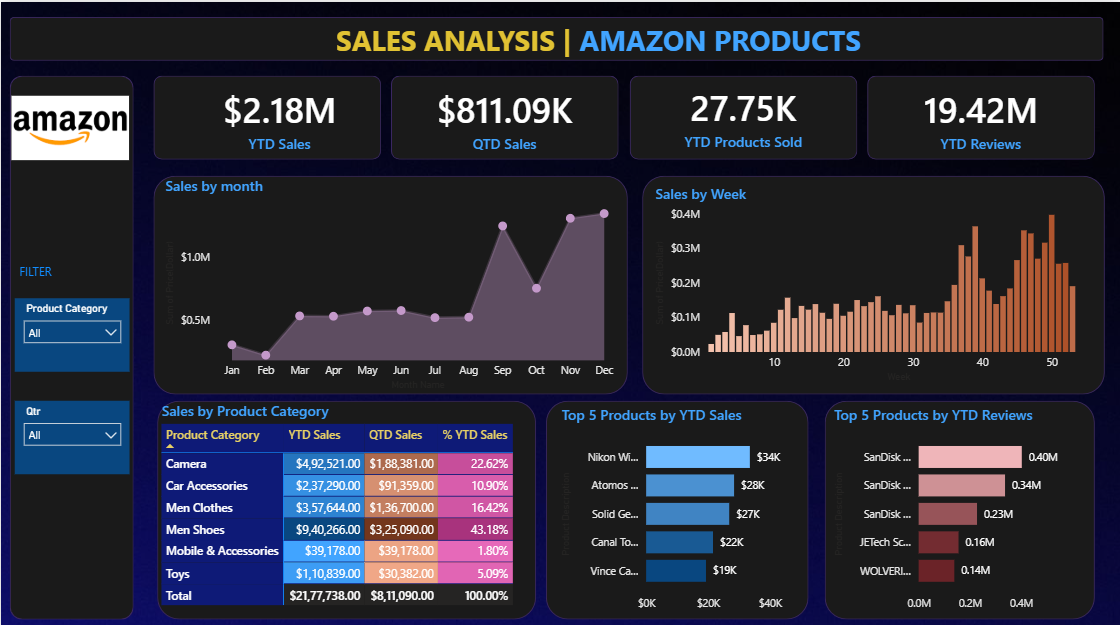

Layout of this report page (visuals, bound fields, positions):
{"tool":"powerbi","page":{"name":"Page 1","canvas":[1280,720],"ordinal":0},"visuals":[{"type":"shape","box":[446.2,84.3,260,95.7],"z":0,"group":"g1"},{"type":"shape","box":[174.3,84.3,260,95.7],"z":1000,"group":"g1"},{"type":"shape","box":[10,17.1,1250,50],"z":1000},{"type":"card","fields":{"Values":["Amazon_Data.YTD Sales"]},"box":[202.9,87.2,231.4,92.9],"z":2000,"group":"g1"},{"type":"textbox","box":[368.6,17.1,628.6,67.1],"z":2000},{"type":"shape","box":[718.1,84.3,260,95.7],"z":3000,"group":"g1"},{"type":"shape","box":[10,84.3,141.4,621.4],"z":3000},{"type":"shape","box":[990,84.3,260,95.7],"z":4000,"group":"g1"},{"type":"shape","box":[174.3,198.6,542,250],"z":4000},{"type":"card","fields":{"Values":["Amazon_Data.QTD Sales"]},"box":[460,87.2,231.4,92.9],"z":5000,"group":"g1"},{"type":"group","id":"g1","title":"Group 1","box":[174.3,84.3,1075.7,95.7],"z":5000},{"type":"card","fields":{"Values":["Amazon_Data.YTD Products Sold"]},"box":[732.9,84.3,231.4,92.9],"z":6000,"group":"g1"},{"type":"areaChart","title":"Sales by month","fields":{"Category":["Date Table.Month Name"],"Y":["Sum(Amazon_Data.Price(Dollar))"]},"box":[182.9,198.6,527.1,250],"z":6000},{"type":"card","fields":{"Values":["Amazon_Data.YTD Reviews"]},"box":[1004.3,87.2,231.4,92.9],"z":7000,"group":"g1"},{"type":"shape","box":[178.6,455.7,432.9,250],"z":8000},{"type":"pivotTable","title":"Sales by Product Category","fields":{"Rows":["Amazon_Data.Product Category"],"Values":["Amazon_Data.YTD Sales1","Amazon_Data.QTD Sales","Amazon_Data.YTD Sales"]},"box":[178.6,455.7,418.6,250],"z":9000},{"type":"shape","box":[622.9,455.7,300,250],"z":10000},{"type":"shape","box":[941.4,455.7,308.6,250],"z":11000},{"type":"clusteredBarChart","title":"Top 5 Products by YTD Sales","fields":{"Category":["Amazon_Data.Product Description"],"Y":["Amazon_Data.YTD Sales"]},"box":[635.7,460,282.9,245.7],"z":12000},{"type":"clusteredBarChart","title":"Top 5 Products by YTD Reviews","fields":{"Category":["Amazon_Data.Product Description"],"Y":["Amazon_Data.YTD Reviews"]},"box":[947.1,460,282.9,245.7],"z":13000},{"type":"slicer","fields":{"Values":["Amazon_Data.Product Category"]},"box":[15.7,338.6,131.4,84.3],"z":14000},{"type":"slicer","fields":{"Values":["Date Table.Qtr"]},"box":[15.7,455.7,131.4,84.3],"z":15000},{"type":"image","box":[7.1,67.1,144.3,152.9],"z":16000},{"type":"shape","box":[732.9,198.6,528.6,250],"z":17000},{"type":"columnChart","title":"Sales by Week","fields":{"Category":["Date Table.Week"],"Y":["Sum(Amazon_Data.Price(Dollar))"]},"box":[742.9,207.1,510,232.9],"z":17001},{"type":"textbox","box":[15.7,294.3,100,30],"z":17002}]}

Visuals, with their boxes in screenshot pixels (x1, y1, x2, y2), scaled from the page's 1280x720 canvas onto the 1120x625 screenshot:
shape: x1=390 y1=73 x2=618 y2=156
shape: x1=153 y1=73 x2=380 y2=156
shape: x1=9 y1=15 x2=1102 y2=58
card - Amazon_Data.YTD Sales: x1=178 y1=76 x2=380 y2=156
textbox: x1=323 y1=15 x2=873 y2=73
shape: x1=628 y1=73 x2=856 y2=156
shape: x1=9 y1=73 x2=132 y2=613
shape: x1=866 y1=73 x2=1094 y2=156
shape: x1=153 y1=172 x2=627 y2=389
card - Amazon_Data.QTD Sales: x1=402 y1=76 x2=605 y2=156
"Group 1" group: x1=153 y1=73 x2=1094 y2=156
card - Amazon_Data.YTD Products Sold: x1=641 y1=73 x2=844 y2=154
"Sales by month" areaChart: x1=160 y1=172 x2=621 y2=389
card - Amazon_Data.YTD Reviews: x1=879 y1=76 x2=1081 y2=156
shape: x1=156 y1=396 x2=535 y2=613
"Sales by Product Category" pivotTable: x1=156 y1=396 x2=523 y2=613
shape: x1=545 y1=396 x2=808 y2=613
shape: x1=824 y1=396 x2=1094 y2=613
"Top 5 Products by YTD Sales" clusteredBarChart: x1=556 y1=399 x2=804 y2=613
"Top 5 Products by YTD Reviews" clusteredBarChart: x1=829 y1=399 x2=1076 y2=613
slicer - Amazon_Data.Product Category: x1=14 y1=294 x2=129 y2=367
slicer - Date Table.Qtr: x1=14 y1=396 x2=129 y2=469
image: x1=6 y1=58 x2=132 y2=191
shape: x1=641 y1=172 x2=1104 y2=389
"Sales by Week" columnChart: x1=650 y1=180 x2=1096 y2=382
textbox: x1=14 y1=255 x2=101 y2=282
